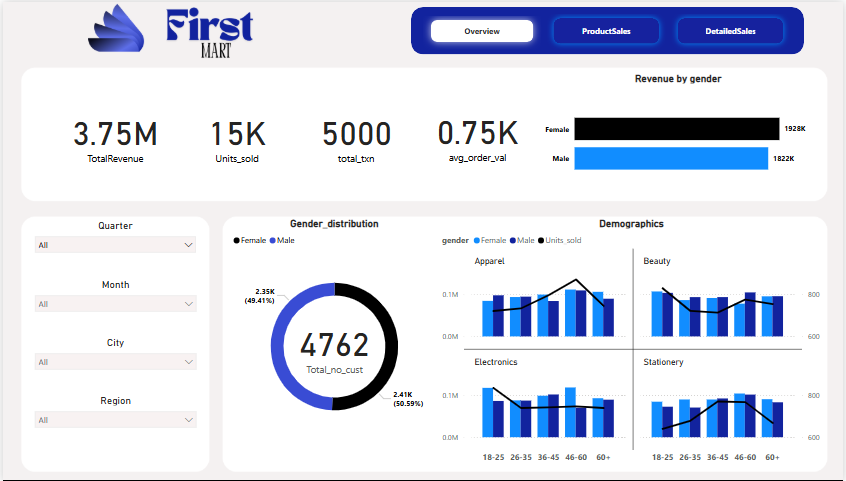

This screenshot's page, from the dashboard's own definition file:
{"tool":"powerbi","page":{"name":"Overview","canvas":[1400,800],"ordinal":0},"visuals":[{"type":"card","fields":{"Values":["calcs.TotalRevenue"]},"box":[42.9,141.1,287.5,162.5],"z":0},{"type":"card","fields":{"Values":["Fact_Sales.Units_sold"]},"box":[300,144.6,180.4,155.4],"z":1000},{"type":"card","fields":{"Values":["Fact_Sales.total_txn"]},"box":[498.2,144.6,180.4,155.4],"z":2000},{"type":"card","fields":{"Values":["Fact_Sales.avg_order_val"]},"box":[700,142.9,182.1,155.4],"z":3000},{"type":"slicer","title":"Quarter","fields":{"Values":["Dim_Calendar.quarter"]},"box":[43.3,361.7,288.3,93.3],"z":4000},{"type":"slicer","title":"Month","fields":{"Values":["Dim_Calendar.month"]},"box":[42.9,459.3,288.9,93.7],"z":5000},{"type":"slicer","title":"City","fields":{"Values":["Dim_Store.Store_city"]},"box":[42.9,556.6,288.9,93.7],"z":6000},{"type":"slicer","title":"Region","fields":{"Values":["Dim_Store.Store_region"]},"box":[42.9,654,288.9,93.7],"z":7000},{"type":"donutChart","title":"Gender_distribution","fields":{"Category":["Dim_Customer.gender"],"Y":["CountNonNull(Dim_Customer.Customer_id)"]},"box":[377.6,358.6,348.3,384.5],"z":8000},{"type":"card","fields":{"Values":["calcs.Total_no_cust"]},"box":[480,523.3,145,101.7],"z":9000},{"type":"shape","box":[679.3,8.6,655.2,79.3],"z":10000},{"type":"clusteredBarChart","title":"Revenue by gender","fields":{"Category":["Dim_Customer.gender"],"Y":["calcs.TotalRevenue"]},"box":[896.4,116.1,457.1,214.3],"z":12000},{"type":"lineClusteredColumnComboChart","title":"Demographics","fields":{"Category":["Dim_Customer.age_group"],"Y":["calcs.TotalRevenue"],"Series":["Dim_Customer.gender"],"Y2":["calcs.Units_sold"],"Rows":["Dim_Product.category"]},"box":[726.7,358.3,641.7,420],"z":13001},{"type":"pageNavigator","box":[700,16,612.1,63.8],"z":13002}]}

Visuals, with their boxes in screenshot pixels (x1, y1, x2, y2), scaled from the page's 1400x800 canvas onto the 846x481 screenshot:
card - calcs.TotalRevenue: bbox=[26, 85, 200, 183]
card - Fact_Sales.Units_sold: bbox=[181, 87, 290, 180]
card - Fact_Sales.total_txn: bbox=[301, 87, 410, 180]
card - Fact_Sales.avg_order_val: bbox=[423, 86, 533, 179]
"Quarter" slicer: bbox=[26, 217, 200, 274]
"Month" slicer: bbox=[26, 276, 201, 332]
"City" slicer: bbox=[26, 335, 201, 391]
"Region" slicer: bbox=[26, 393, 201, 450]
"Gender_distribution" donutChart: bbox=[228, 216, 439, 447]
card - calcs.Total_no_cust: bbox=[290, 315, 378, 376]
shape: bbox=[410, 5, 806, 53]
"Revenue by gender" clusteredBarChart: bbox=[542, 70, 818, 199]
"Demographics" lineClusteredColumnComboChart: bbox=[439, 215, 827, 468]
pageNavigator: bbox=[423, 10, 793, 48]
